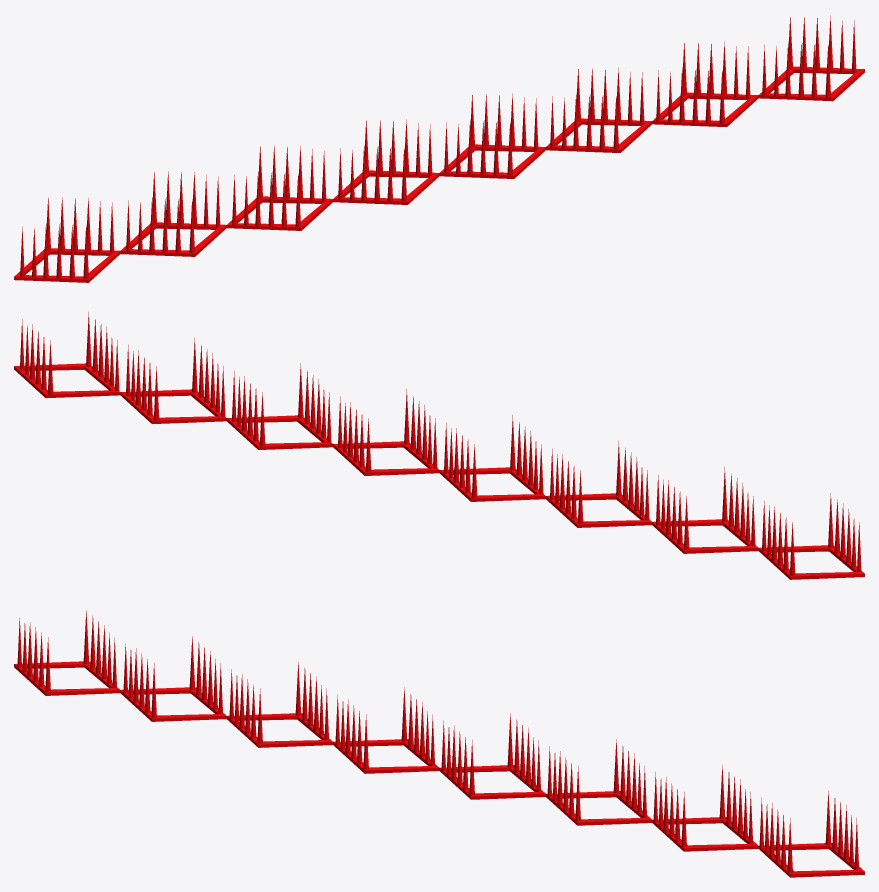
The model's file is spikes.fbx.
3 views of the same model, one above another, from view 1: azimuth 30°, elevation 25°; view 2: azimuth 150°, elevation 25°; view 3: azimuth 330°, elevation 25° (orthographic).
Parts seen in each view (by area): view 1: Cube; view 2: Cube; view 3: Cube.
Part boxes in pixels (box(x1,y1,x2,y2)): Cube: box(14, 15, 864, 282); Cube: box(14, 312, 864, 579); Cube: box(14, 610, 864, 877).
Bounding box in the file's own units: 32.23 × 2.1 × 2.83.
